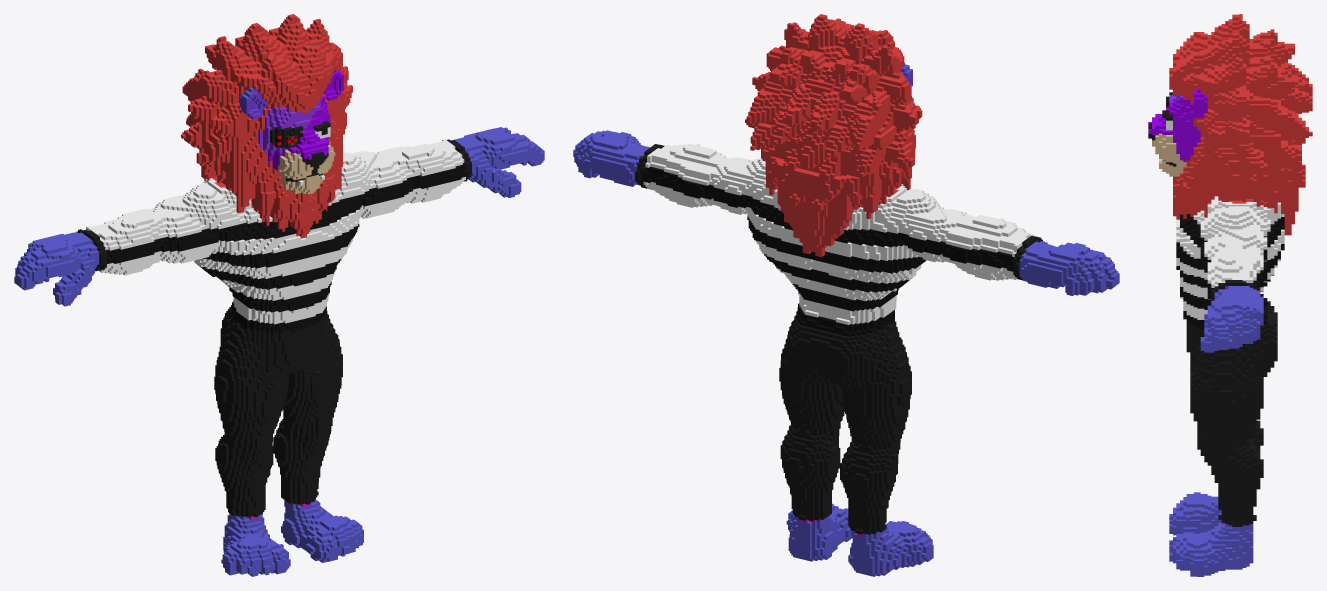
File: 379-CAnfHuYr.fbx
3 renders of one model, left to right at view 1: azimuth 30°, elevation 25°; view 2: azimuth 150°, elevation 25°; view 3: azimuth 270°, elevation 25°, orthographic. The views are drawn at different scales.
Visible parts, largest first — view 1: standard; view 2: standard; view 3: standard.
Boxes of the visible parts, left/top/right/bottom form: standard: left=14, top=14, right=544, bottom=576; standard: left=573, top=14, right=1119, bottom=576; standard: left=1148, top=14, right=1312, bottom=576.
Bounding box in the file's own units: 17.2 × 16.5 × 4.7.
Materials: 5 (5 with a texture image).
